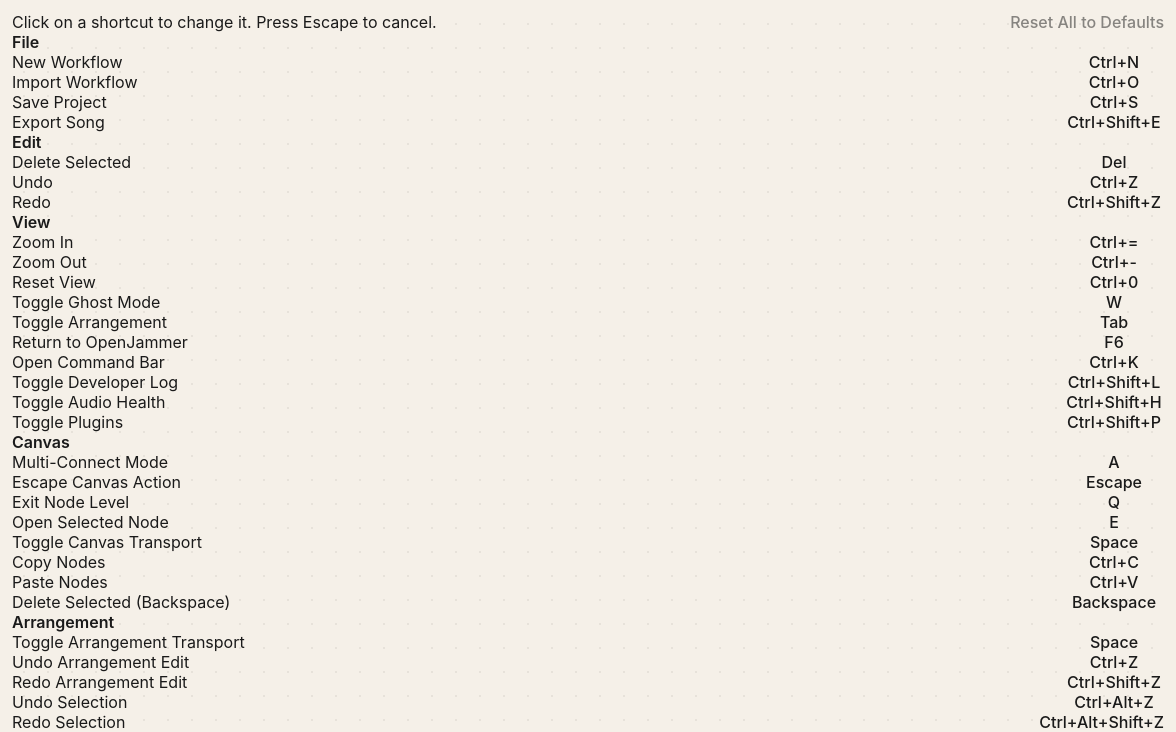
Scenario: KeybindingsPanel › editing mode › should exit editing mode when pressing Escape
Note: Enter editing mode
Click the button "Del" at x=1114, y=162, box [1064, 152, 1164, 172]
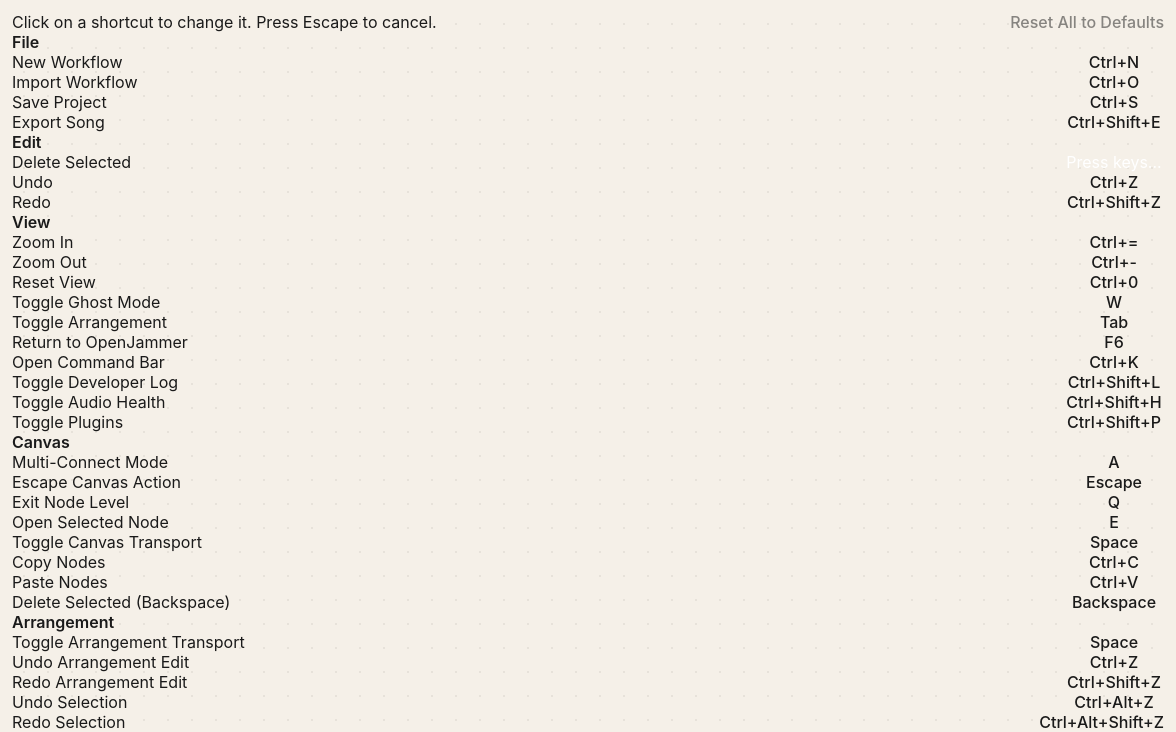
Check: the text "Press keys..." is shown, box [1064, 152, 1164, 172]
Note: Press Escape
Press Escape
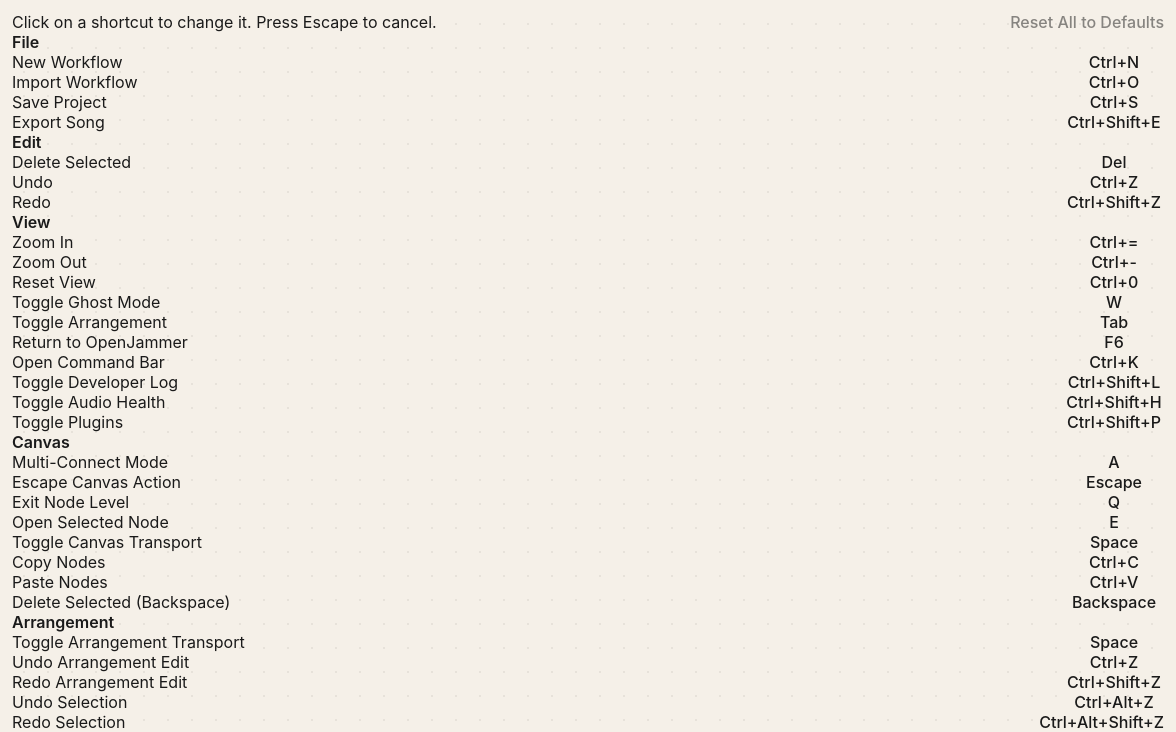
Check: the text "Press keys..." is gone
